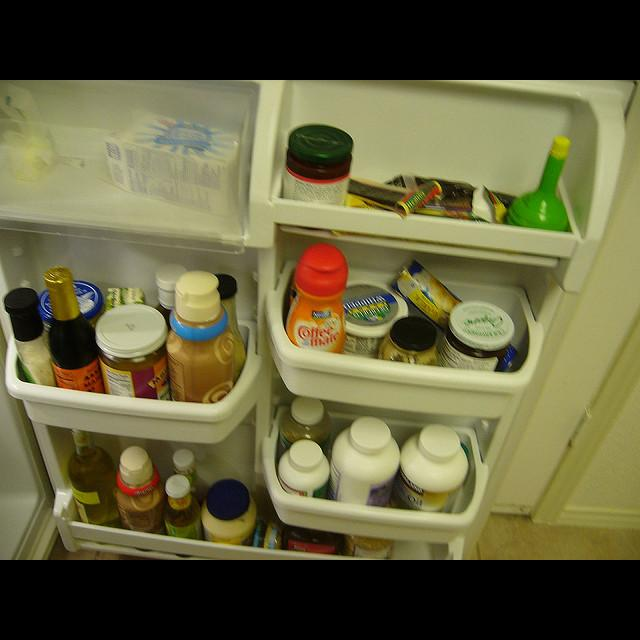Refrigerator: (1, 83, 628, 554)
